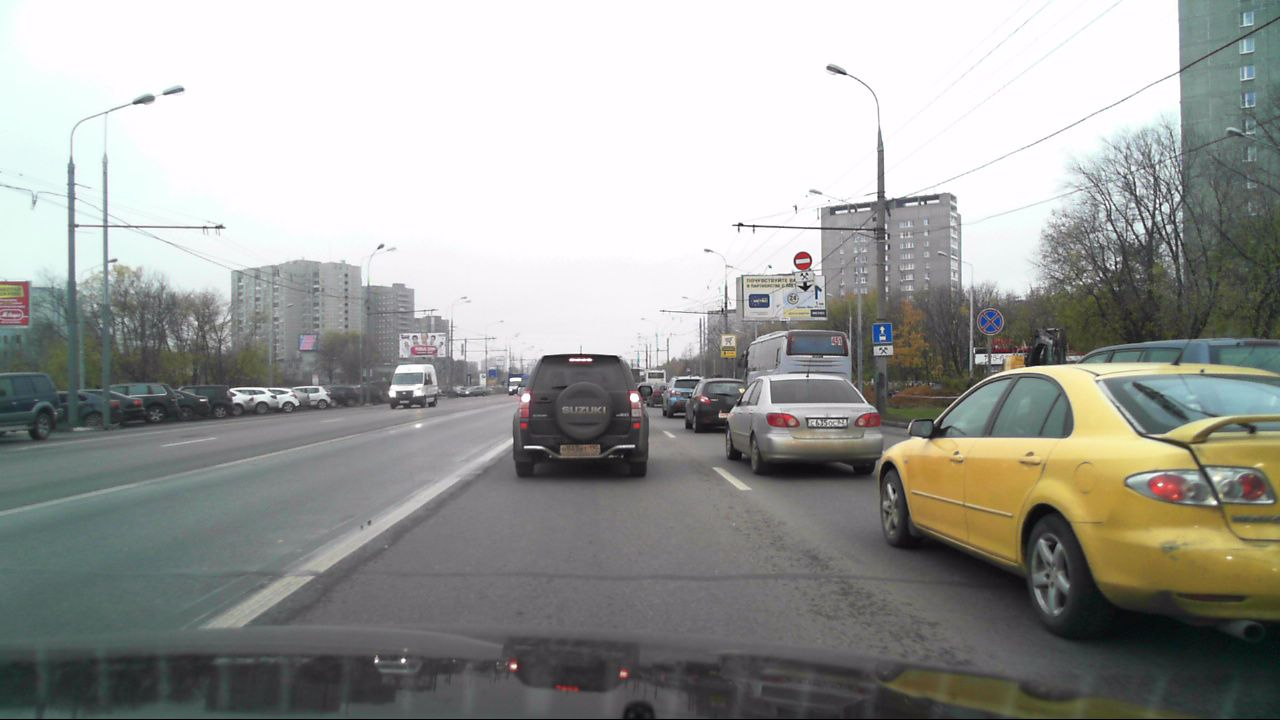No Parking: (977, 307, 1003, 336)
